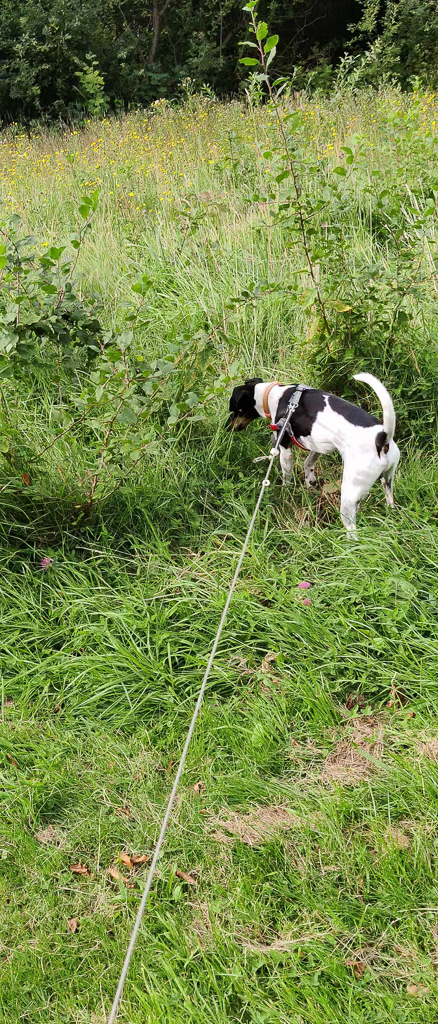Dog: (204, 344, 412, 549)
